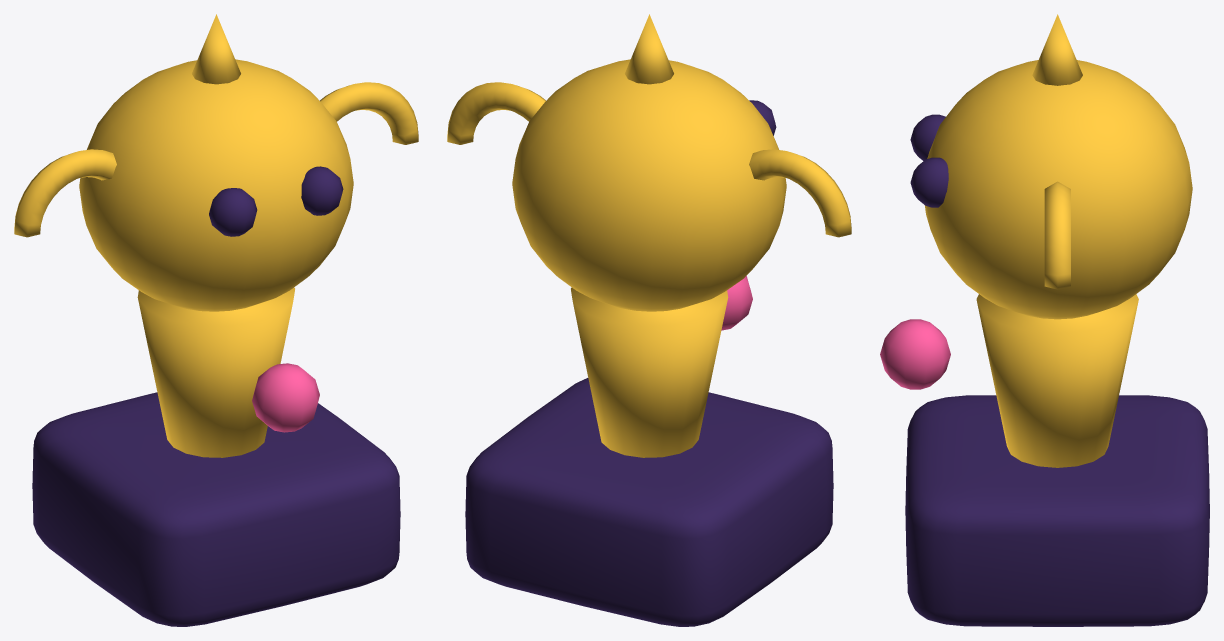
The model's file is P_Trophy.fbx.
The picture shows the model from 3 angles, left to right: view 1: azimuth 30°, elevation 25°; view 2: azimuth 150°, elevation 25°; view 3: azimuth 270°, elevation 25°; orthographic projection. The views are drawn at different scales.
Visible parts, largest first — view 1: P_Trophy__Gold, P_Trophy__Base, P_Trophy__Gem; view 2: P_Trophy__Gold, P_Trophy__Base, P_Trophy__Gem; view 3: P_Trophy__Gold, P_Trophy__Base, P_Trophy__Gem.
Part boxes in pixels (x1,y1,x2,y2): P_Trophy__Gold: [14, 14, 418, 457]; P_Trophy__Base: [32, 166, 400, 626]; P_Trophy__Gem: [252, 363, 319, 432]; P_Trophy__Gold: [447, 14, 851, 457]; P_Trophy__Base: [465, 100, 833, 626]; P_Trophy__Gem: [721, 276, 752, 330]; P_Trophy__Gold: [924, 14, 1192, 467]; P_Trophy__Base: [905, 114, 1209, 626]; P_Trophy__Gem: [880, 319, 950, 389].
Bounding box in the file's own units: 4.7 × 6.1 × 3.25.
